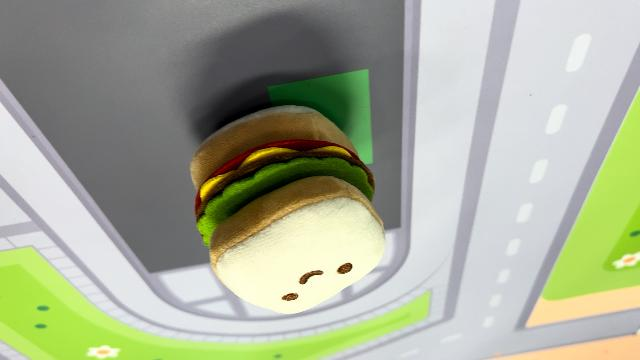sandwich: (187, 101, 389, 314)
